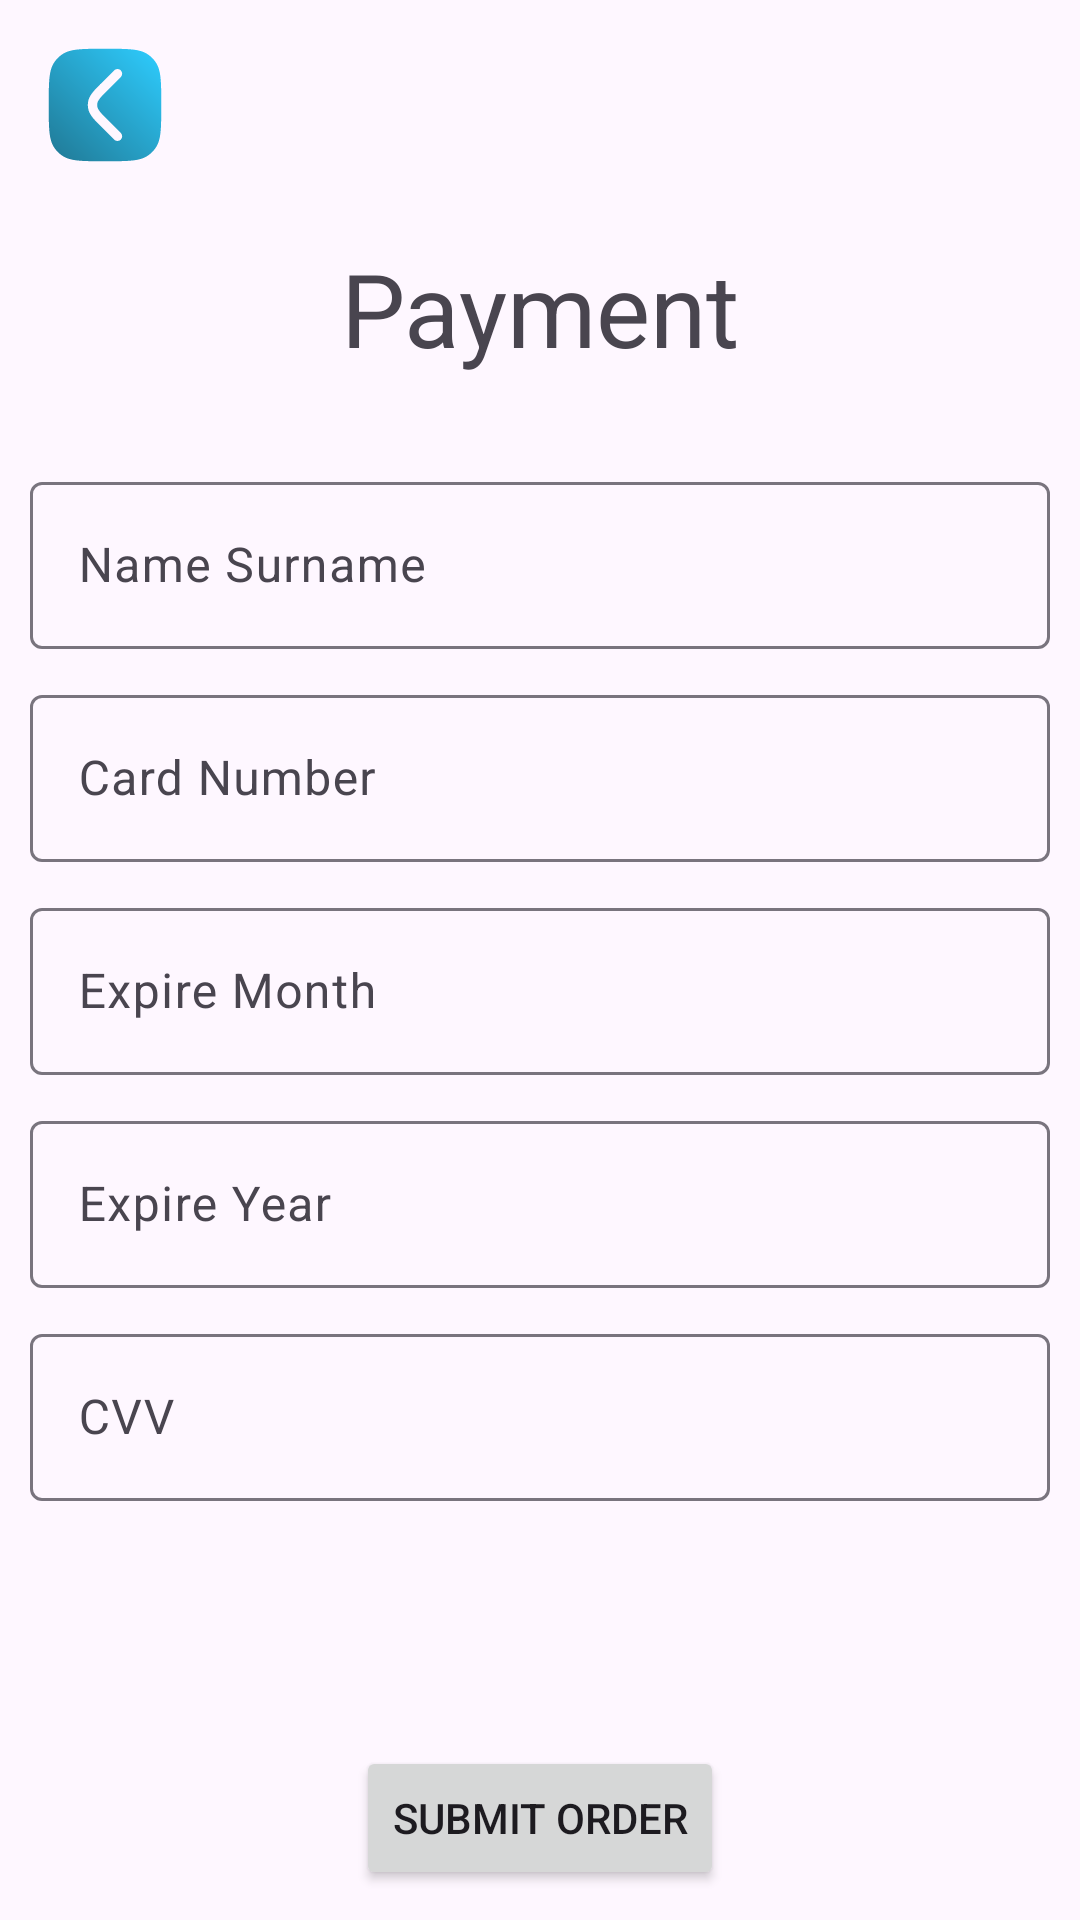

Locate icon controls on the screen. Image size 1080 x 1920, boxes as (x1,y1,x2,y2).
back: (48,48,162,162)
